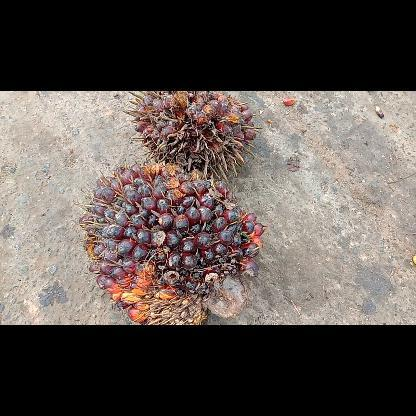Kurang masak: (76, 158, 264, 324)
TBS masak: (122, 90, 258, 180)
